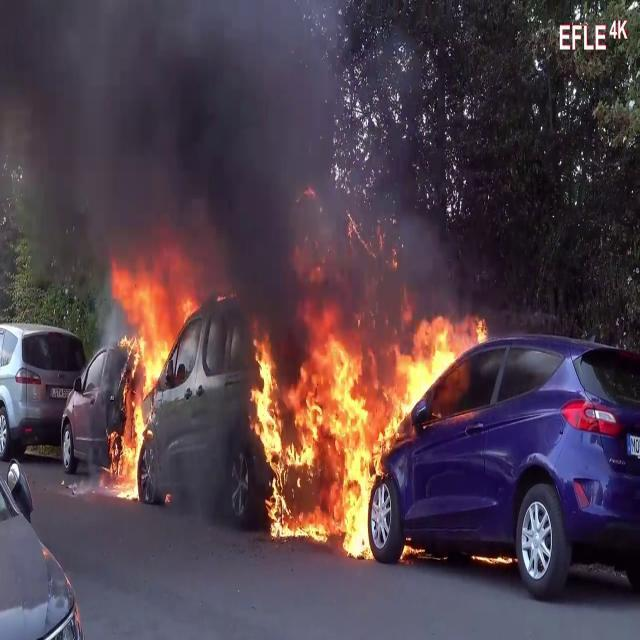Fire: (246, 304, 482, 556), (104, 254, 198, 496)
Smoke: (0, 1, 465, 310)
